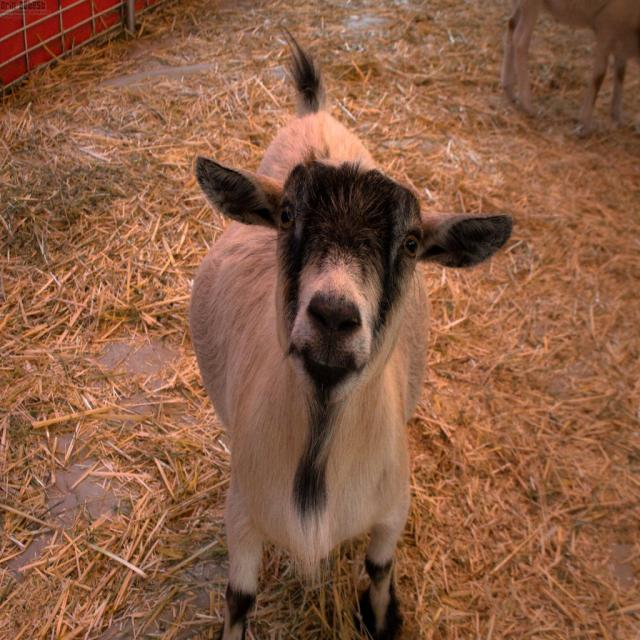Goat: (186, 25, 510, 640)
